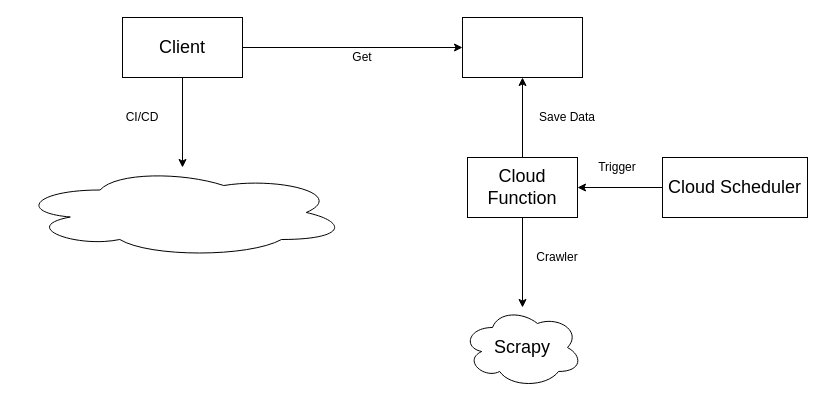
This 825x405 diagram has some shape labels left out. Here are the shapes that lost their labels. From the top down, the centre of each, then its label:
At point (522, 47): "Cloud Storage".
At point (182, 212): "Github Action + Netlify".
